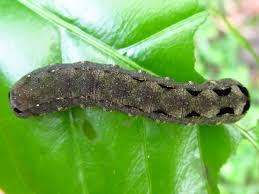Armyworm: (11, 58, 257, 148)
